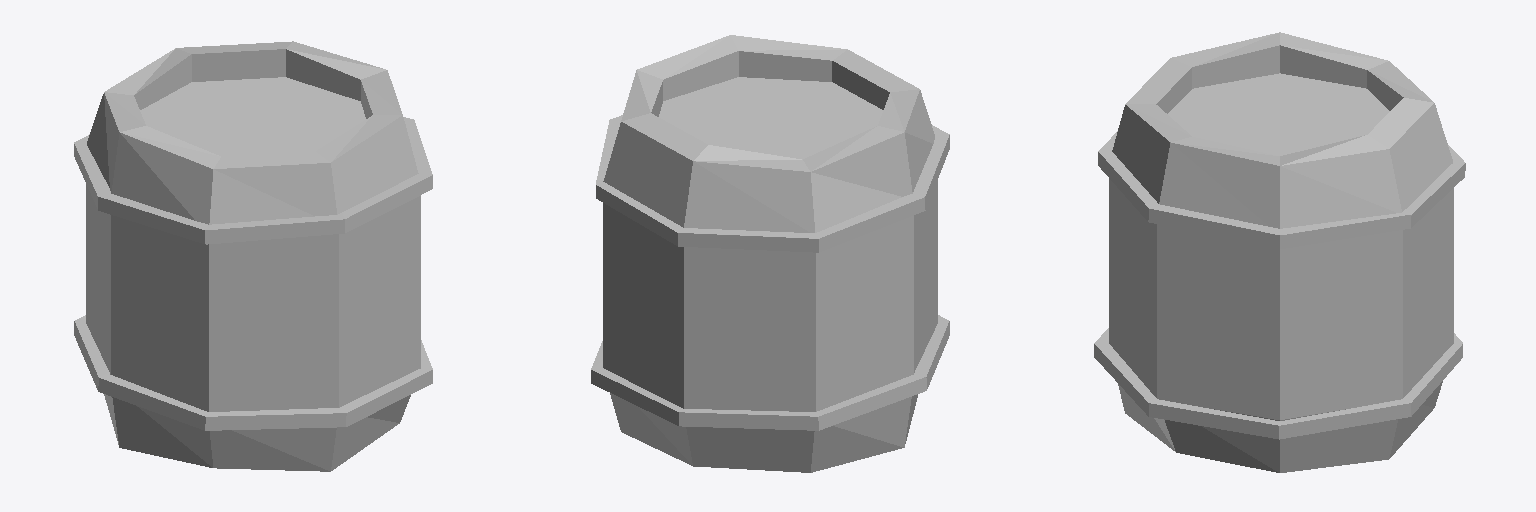
File: barrel.obj
The picture shows the model from 3 angles: view 1: azimuth 30°, elevation 25°; view 2: azimuth 150°, elevation 25°; view 3: azimuth 270°, elevation 25°; orthographic projection.
Visible parts, largest first — view 1: barrel_Cylinder.003; view 2: barrel_Cylinder.003; view 3: barrel_Cylinder.003.
Part boxes in pixels (x1,y1,x2,y2): barrel_Cylinder.003: (74,41,432,471); barrel_Cylinder.003: (591,35,949,472); barrel_Cylinder.003: (1094,32,1465,472).
Bounding box in the file's own units: 2.36 × 2.26 × 2.4.